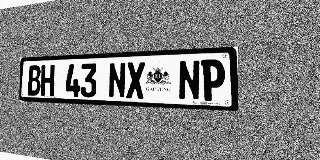3: (81, 63, 97, 97)
4: (65, 64, 80, 97)
B: (28, 65, 41, 96)
H: (41, 65, 55, 96)
N: (178, 60, 200, 101), (108, 62, 126, 98)
P: (201, 59, 225, 101)
X: (126, 62, 145, 99)
